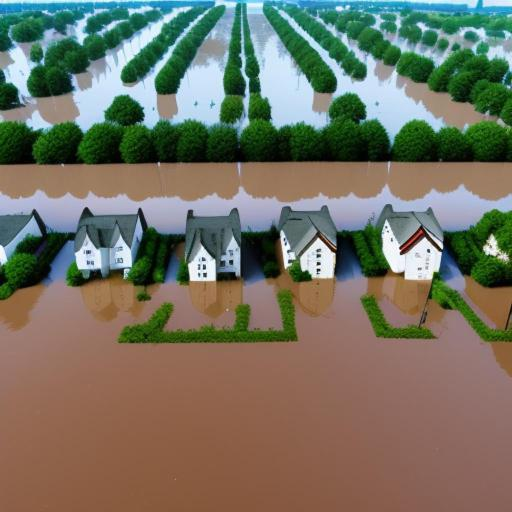flood: (0, 239, 512, 512), (0, 162, 512, 232), (248, 3, 499, 138), (0, 0, 234, 130), (442, 248, 512, 328), (384, 28, 512, 69), (66, 17, 87, 43), (38, 28, 64, 48), (374, 14, 383, 27), (129, 6, 148, 12), (396, 14, 402, 24), (420, 23, 428, 30), (86, 14, 92, 17)
house: (78, 206, 148, 282), (377, 204, 443, 282), (186, 205, 244, 286), (278, 208, 338, 282), (1, 208, 47, 280)
